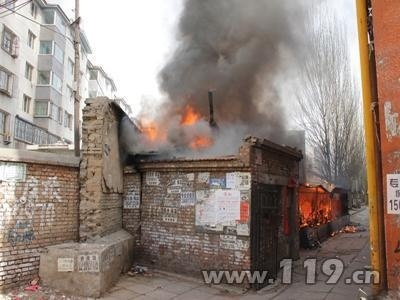fire: (129, 104, 215, 155), (299, 184, 336, 228)
